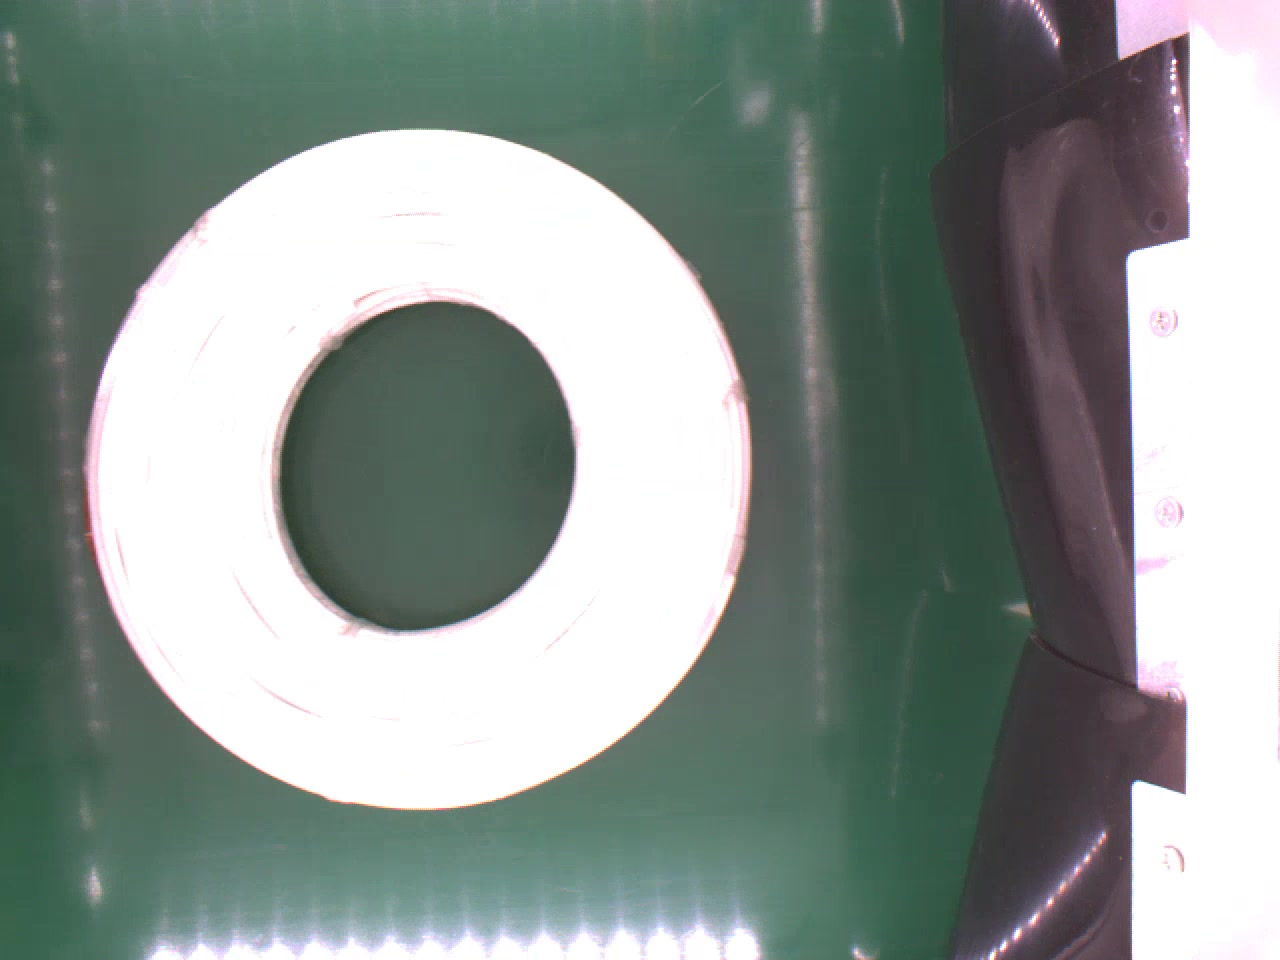white: (84, 123, 753, 814)
